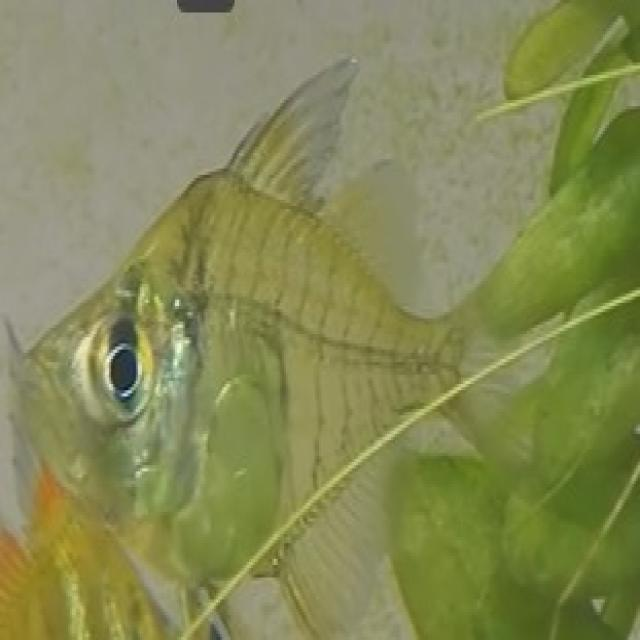Glass-Perchlet: (4, 65, 570, 640)
